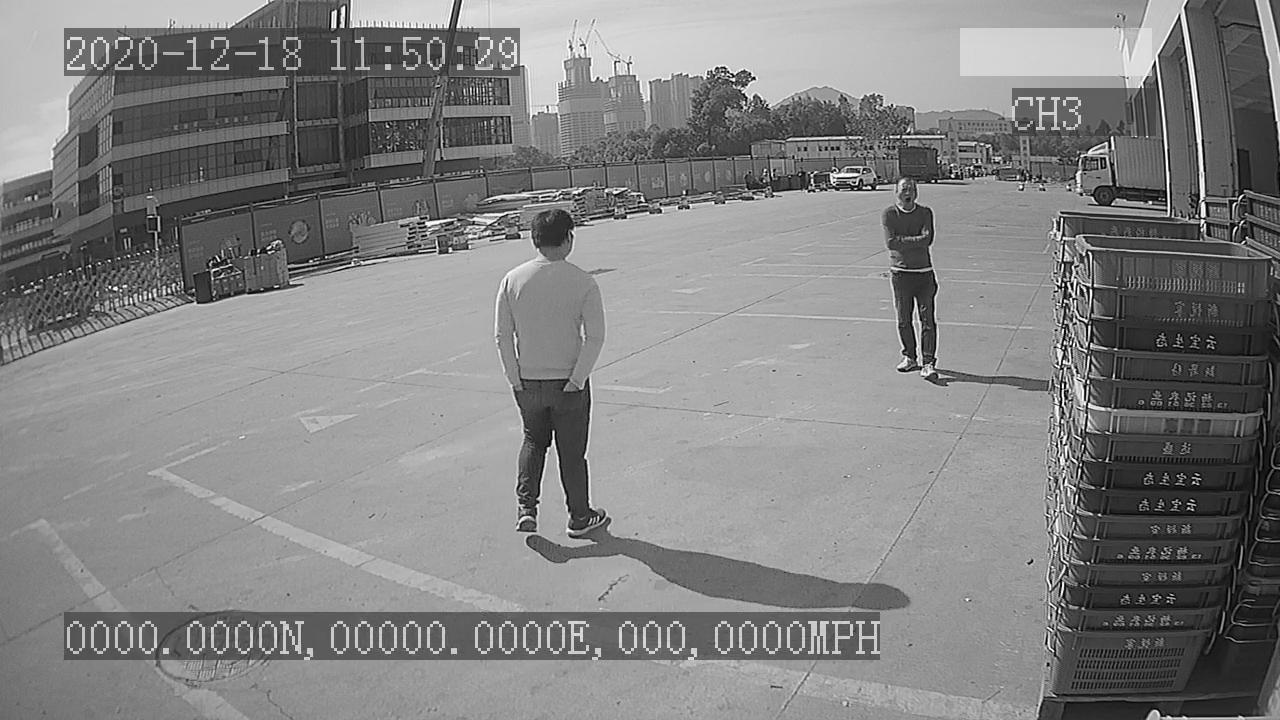person: (490, 206, 613, 542), (876, 174, 947, 383)
